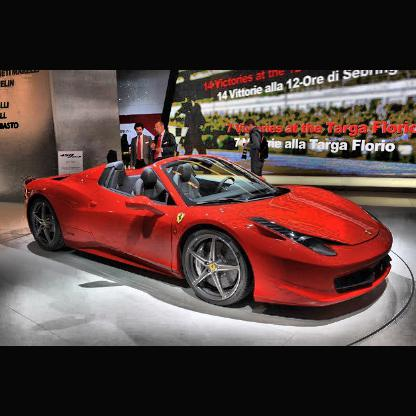Ferrari 458 Italia Convertible 2012: (25, 153, 395, 306)
